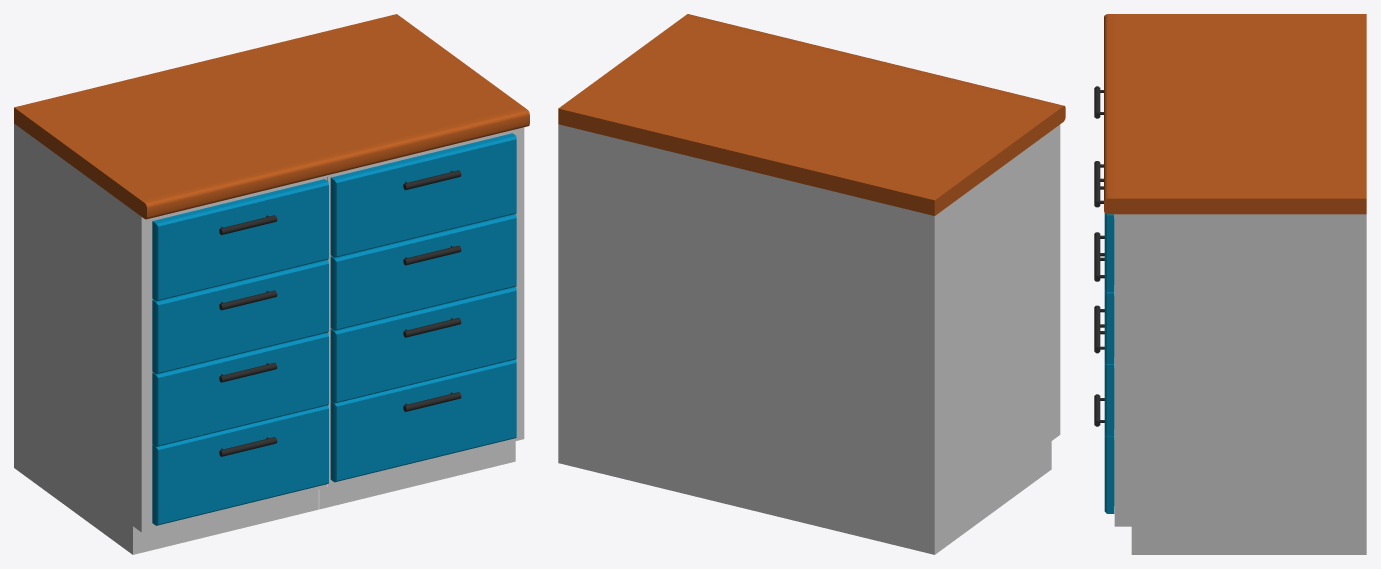
File: Kitchen_Shelves.fbx
The picture shows the model from 3 angles, left to right: view 1: azimuth 30°, elevation 25°; view 2: azimuth 150°, elevation 25°; view 3: azimuth 270°, elevation 25°; orthographic projection.
Parts seen in each view (by area): view 1: Shelves, Drawer_08, Drawer_12, Drawer_04, Drawer_07, Drawer_09, Drawer_10, Drawer_05, Drawer_06; view 2: Shelves; view 3: Shelves, Drawer_08, Drawer_12, Drawer_10, Drawer_09.
Part boxes in pixels (<box>): Shelves: <box>14,14,529,554</box>; Drawer_08: <box>330,133,516,257</box>; Drawer_12: <box>330,359,516,482</box>; Drawer_04: <box>152,179,328,301</box>; Drawer_07: <box>152,405,328,525</box>; Drawer_09: <box>330,214,516,330</box>; Drawer_10: <box>330,286,516,403</box>; Drawer_05: <box>152,259,328,374</box>; Drawer_06: <box>152,332,328,446</box>; Shelves: <box>558,14,1065,554</box>; Shelves: <box>1104,14,1366,554</box>; Drawer_08: <box>1094,175,1114,292</box>; Drawer_12: <box>1094,394,1114,513</box>; Drawer_10: <box>1094,321,1114,435</box>; Drawer_09: <box>1094,249,1114,364</box>.
Size of the model in its own units: 1 by 0.9 by 0.624.
